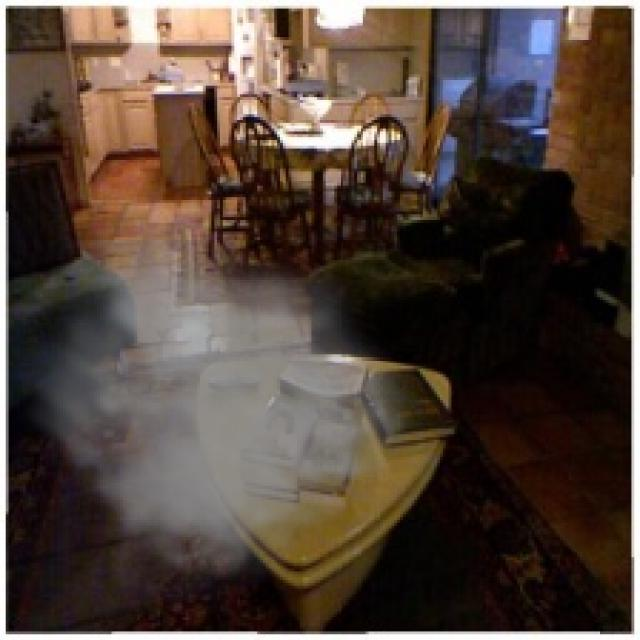smoke: (8, 240, 423, 617)
